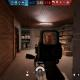Character: (39, 36, 40, 42)
Friend_label: (17, 30, 20, 32)
Head: (39, 37, 40, 38)
